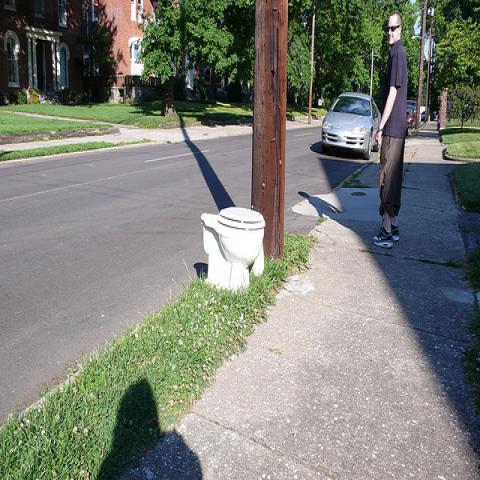car: (320, 92, 381, 157), (406, 104, 417, 130), (420, 105, 425, 120)
